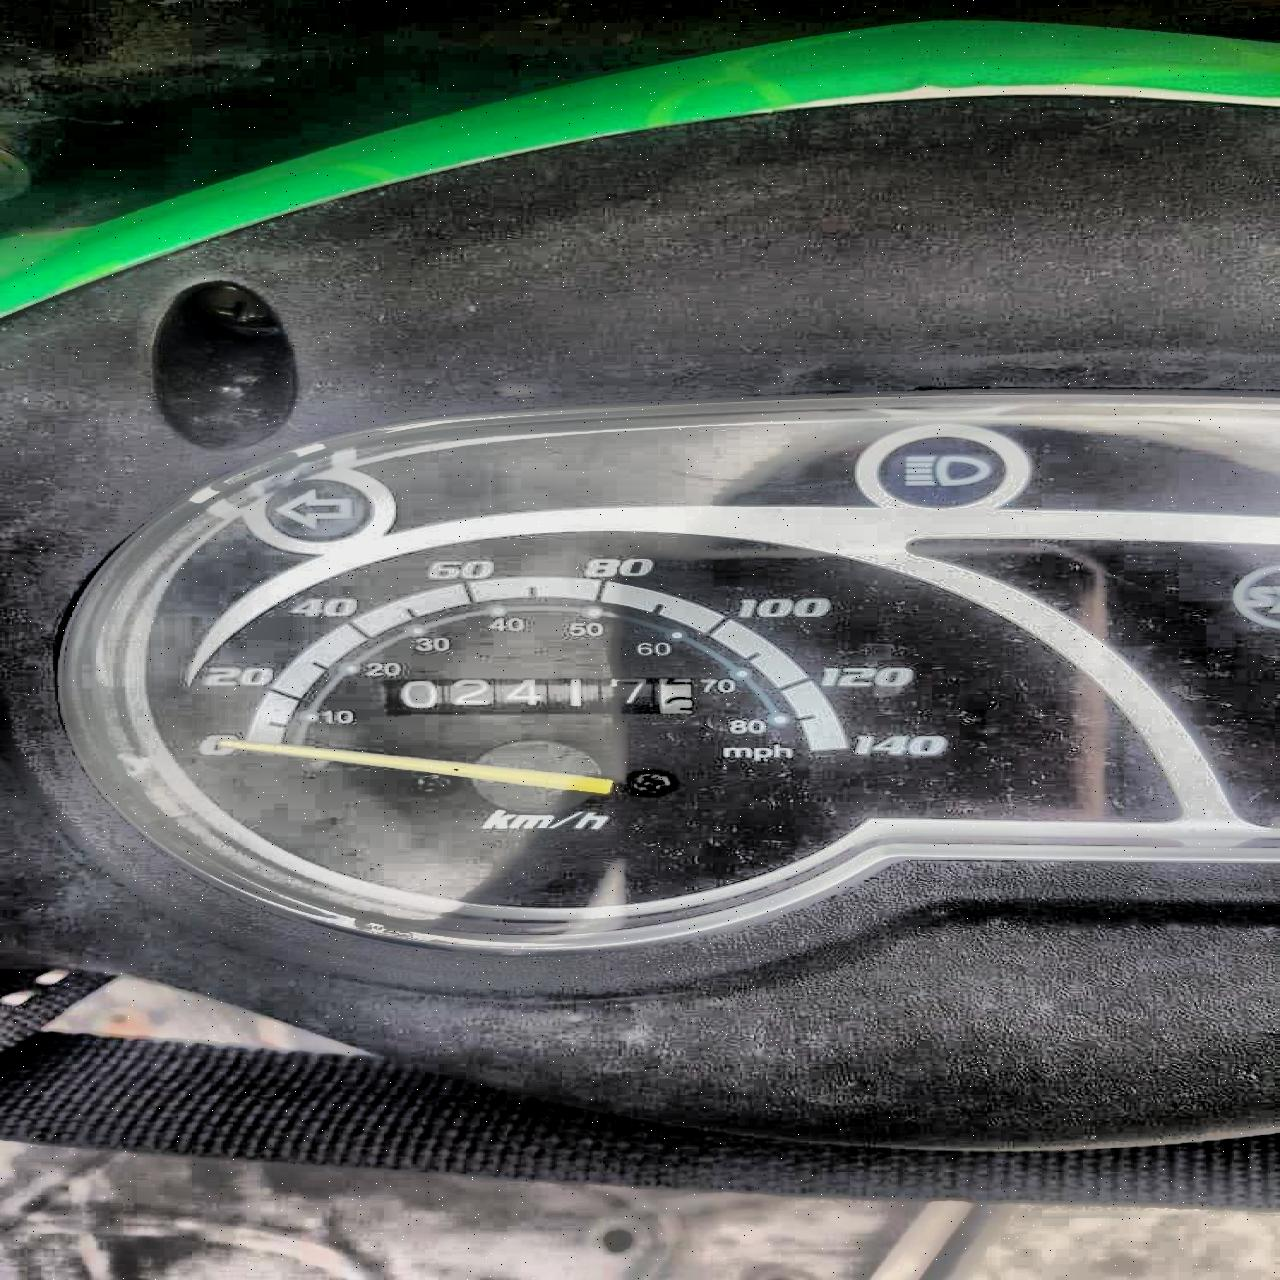0: (400, 678, 437, 708)
1: (560, 678, 590, 708)
2: (449, 678, 489, 707)
3: (660, 692, 700, 715)
4: (504, 679, 542, 704)
7: (610, 678, 645, 706)
odometer: (379, 676, 700, 716)
